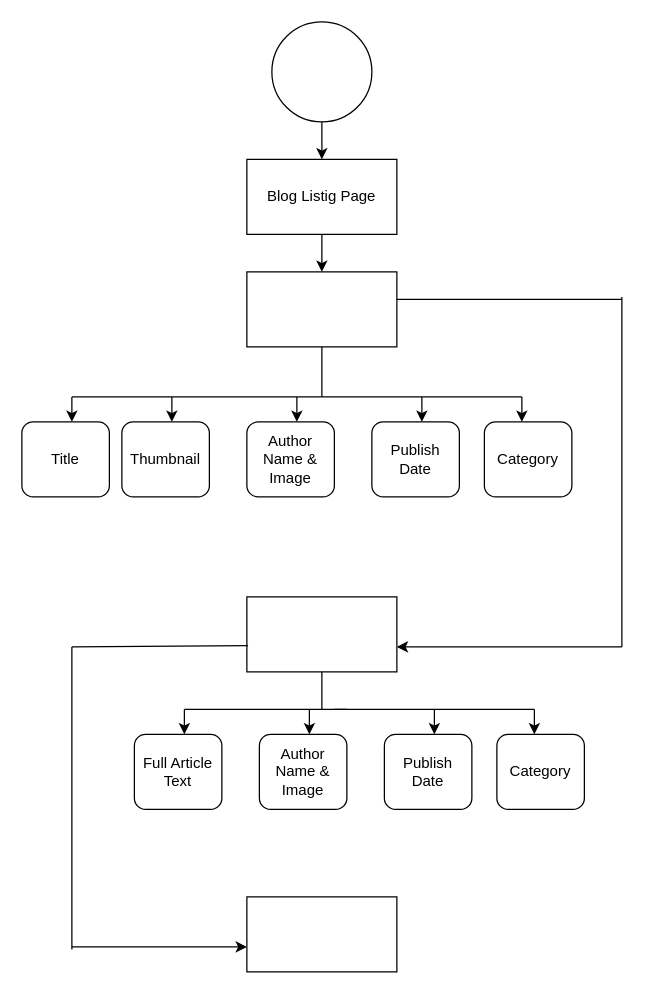
Some shapes in this 654 by 994 pixel diagram are drawn without their labels. Here are the shapes that lost their labels. From the top down, the centre of each, then its label:
[321,71]: Start Blog App
[321,309]: Blog Card
[321,634]: Blog Details Page
[321,934]: Routig System
